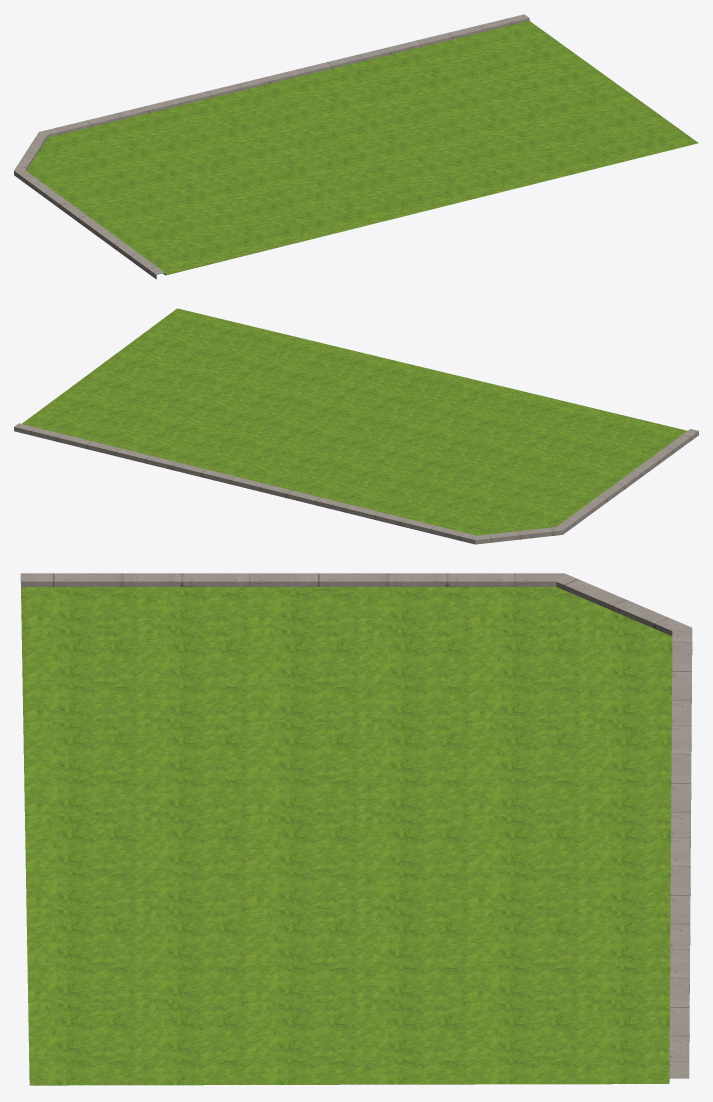
The model's file is GrassTile_A.fbx.
3 renders of one model, top to bottom at view 1: azimuth 30°, elevation 25°; view 2: azimuth 150°, elevation 25°; view 3: azimuth 270°, elevation 25°, orthographic. The views are drawn at different scales.
Parts seen in each view (by area): view 1: GrassTile_A; view 2: GrassTile_A; view 3: GrassTile_A.
Part boxes in pixels (<box>): GrassTile_A: <box>14,14,698,279</box>; GrassTile_A: <box>14,308,698,544</box>; GrassTile_A: <box>20,573,692,1085</box>.
Bounding box in the file's own units: 4207 × 33.99 × 2355.
2 materials, 2 textured.
